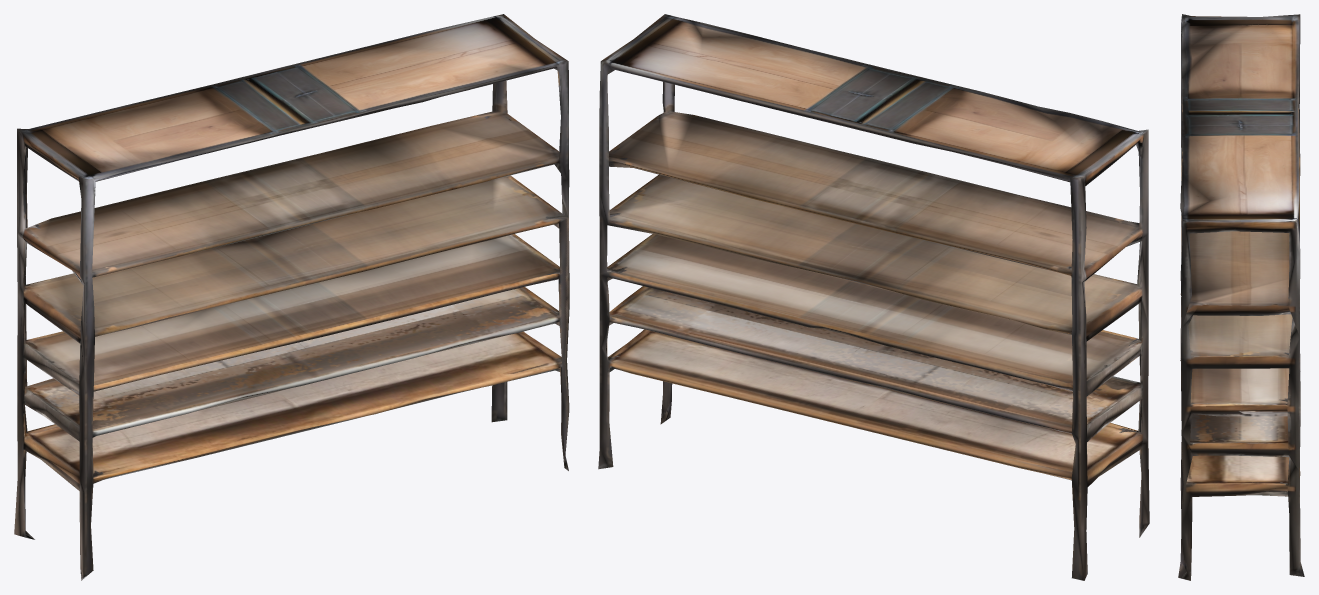
The picture shows the model from 3 angles, left to right: view 1: azimuth 30°, elevation 25°; view 2: azimuth 150°, elevation 25°; view 3: azimuth 270°, elevation 25°; orthographic projection. The views are drawn at different scales.
Visible parts, largest first — view 1: Mesh1.0; view 2: Mesh1.0; view 3: Mesh1.0.
Boxes of the visible parts, x1,y1,x2,y2 form: Mesh1.0: (14,14,569,580); Mesh1.0: (598,14,1149,580); Mesh1.0: (1178,14,1304,580).
Bounding box in the file's own units: 200 × 161 × 51.33.
Materials: 1 (1 with a texture image).
